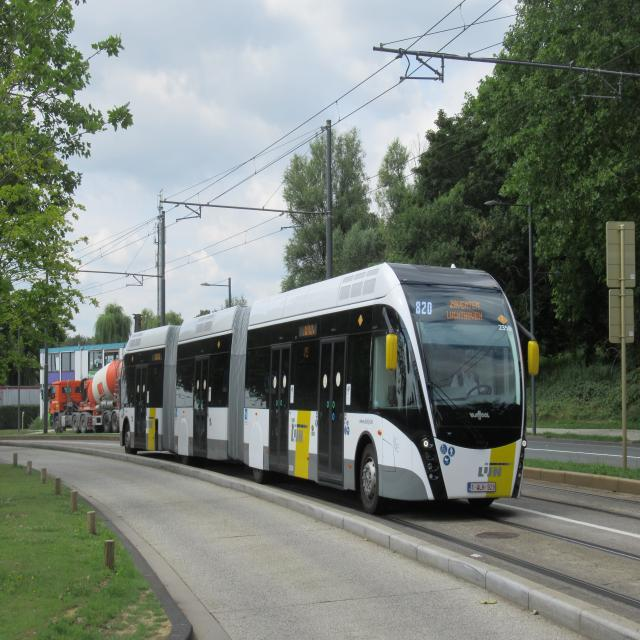bus-number: (415, 300, 433, 316)
